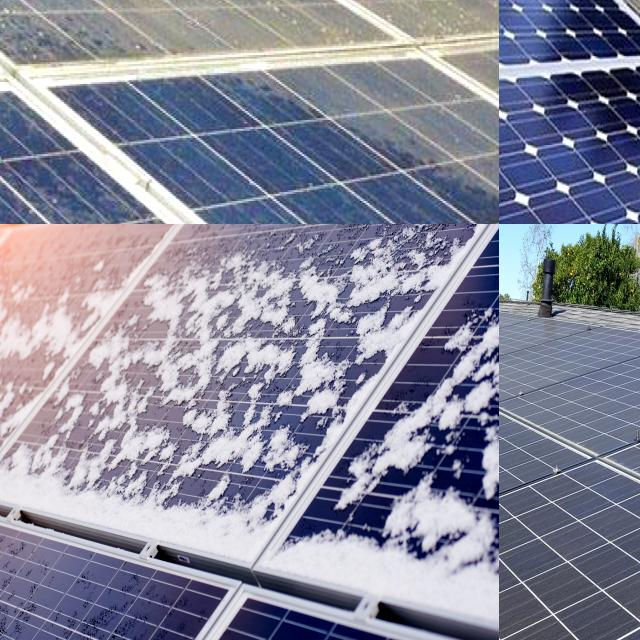crack: (499, 59, 640, 224)
dust: (202, 58, 443, 190), (42, 0, 319, 51), (535, 481, 617, 640), (227, 0, 405, 56), (345, 0, 499, 41), (451, 96, 499, 224), (0, 0, 102, 58), (0, 174, 100, 224), (123, 0, 212, 38), (102, 0, 176, 44)
panel: (126, 244, 247, 348), (89, 356, 173, 484), (29, 224, 147, 311), (262, 239, 356, 347), (184, 363, 258, 485), (374, 475, 478, 558), (422, 310, 498, 414), (364, 224, 422, 352), (145, 224, 244, 296), (28, 279, 128, 348), (293, 506, 382, 576), (263, 224, 365, 285), (270, 358, 340, 445), (363, 413, 433, 498), (0, 307, 49, 416), (394, 224, 468, 283), (10, 433, 86, 489), (122, 490, 198, 544), (430, 224, 484, 292), (194, 486, 272, 532), (0, 224, 43, 290), (0, 597, 49, 640), (374, 224, 395, 272)
